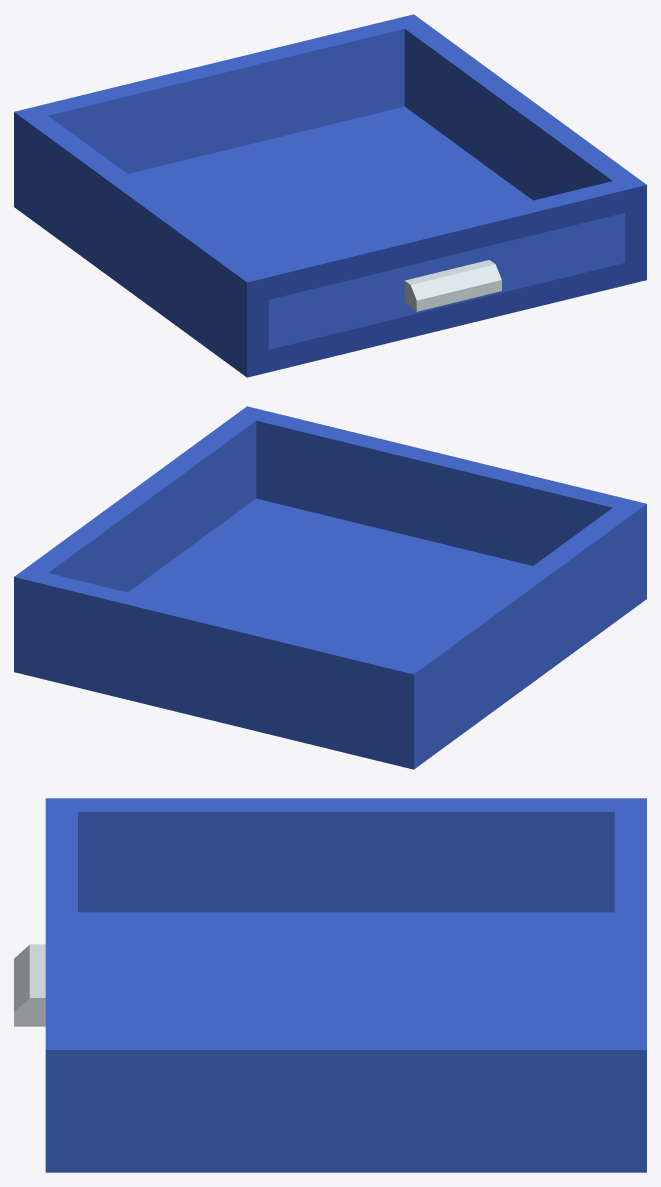
Rendered from Kitchen_ChildLockDrawer.glb.
3 renders of one model, top to bottom at view 1: azimuth 30°, elevation 25°; view 2: azimuth 150°, elevation 25°; view 3: azimuth 270°, elevation 25°, orthographic. The views are drawn at different scales.
Visible parts, largest first — view 1: Kitchen_ChildLockDrawer; view 2: Kitchen_ChildLockDrawer; view 3: Kitchen_ChildLockDrawer.
Boxes of the visible parts, x1,y1,x2,y2 form: Kitchen_ChildLockDrawer: (14,14,646,377); Kitchen_ChildLockDrawer: (14,406,646,769); Kitchen_ChildLockDrawer: (14,798,646,1172).
Size of the model in its own units: 0.3763 by 0.0856 by 0.4.
